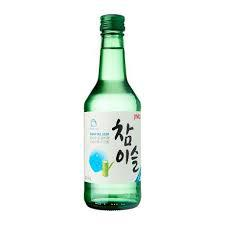soju: (83, 12, 144, 212)
